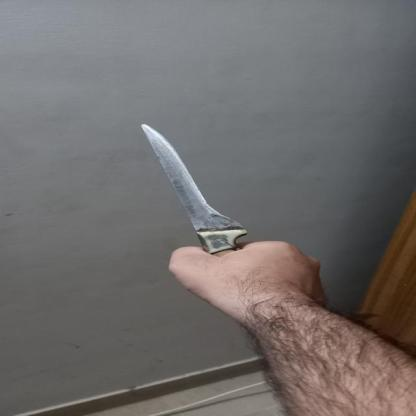Knife: (126, 119, 266, 257)
